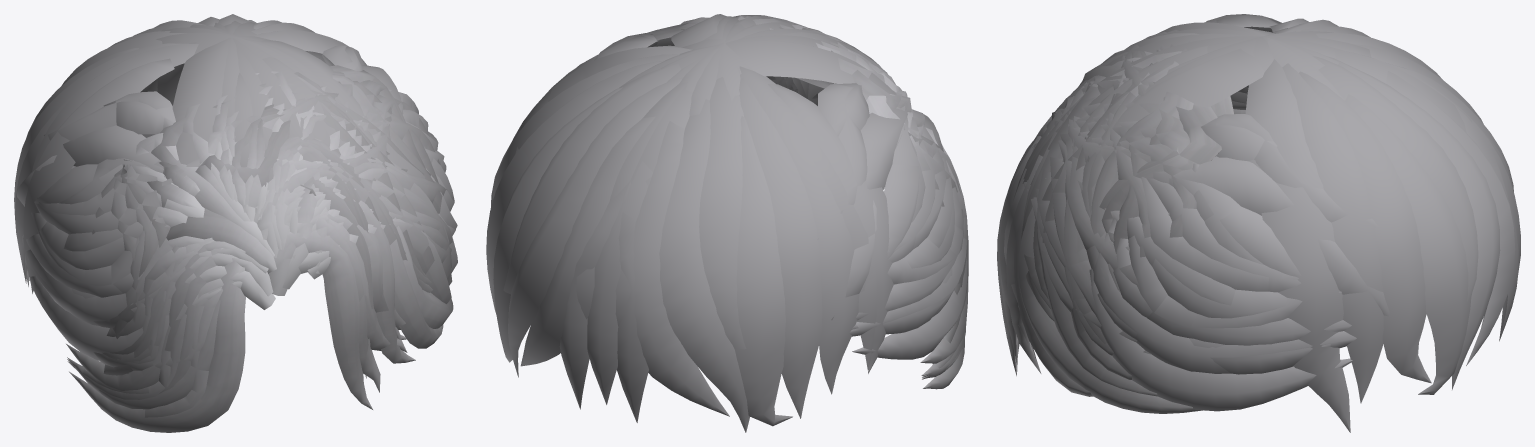
Rendered from vroid_hair_c11v7.glb.
3 views of the same model, side by side, from view 1: azimuth 30°, elevation 25°; view 2: azimuth 150°, elevation 25°; view 3: azimuth 270°, elevation 25° (orthographic). The views are drawn at different scales.
Parts seen in each view (by area): view 1: hair; view 2: hair; view 3: hair.
Part boxes in pixels (<box>): hair: <box>14,14,457,432</box>; hair: <box>486,14,968,432</box>; hair: <box>997,14,1520,432</box>.
Bounding box in the file's own units: 0.2105 × 0.1656 × 0.2296.
2 materials, 2 textured.
